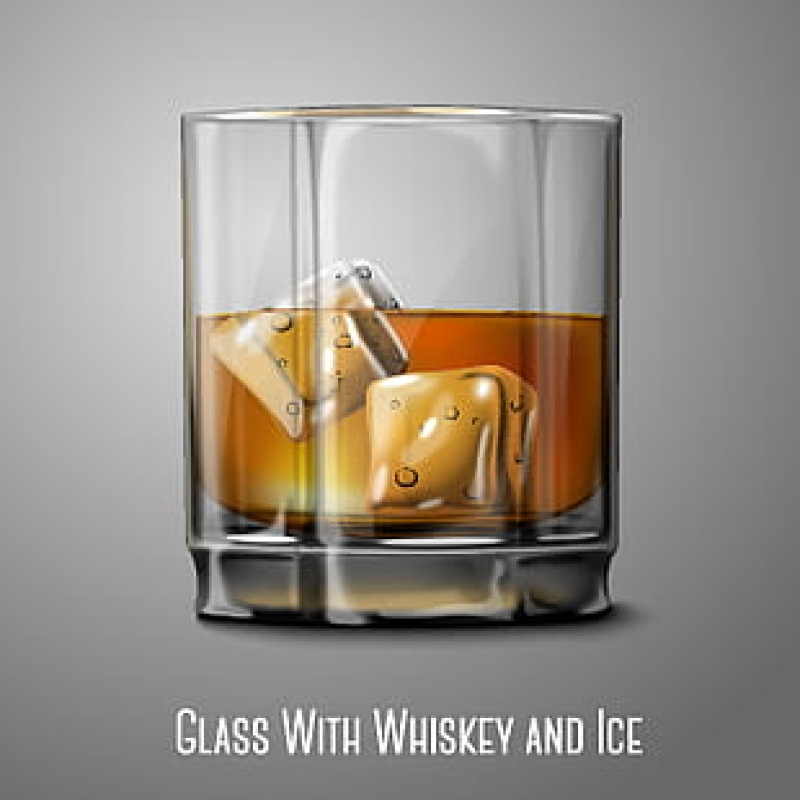whiskey: (182, 107, 622, 603)
